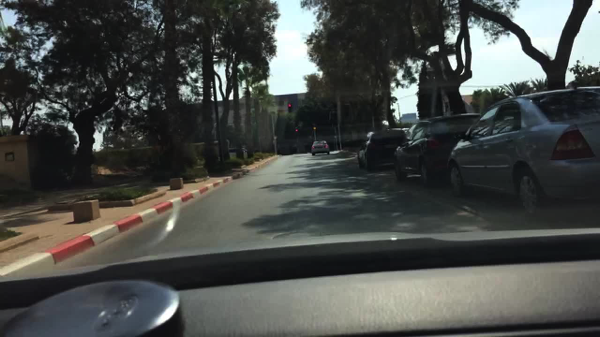car: (445, 86, 599, 209), (390, 111, 478, 185), (354, 130, 405, 169), (310, 140, 329, 155)
traffic light: (286, 102, 292, 114), (312, 123, 316, 132), (294, 128, 299, 135)
